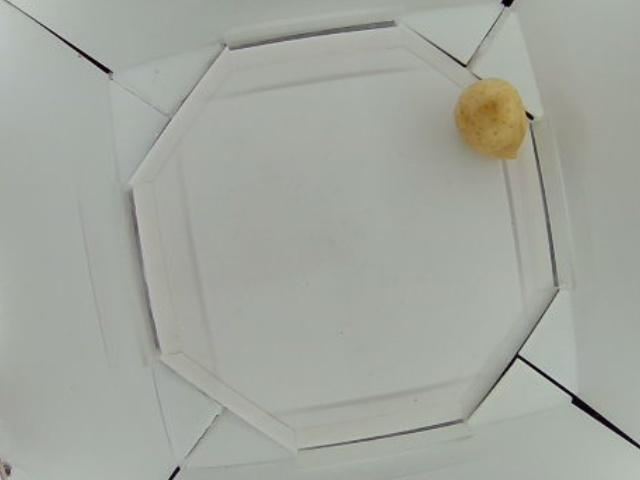Potato: (453, 78, 532, 157)
